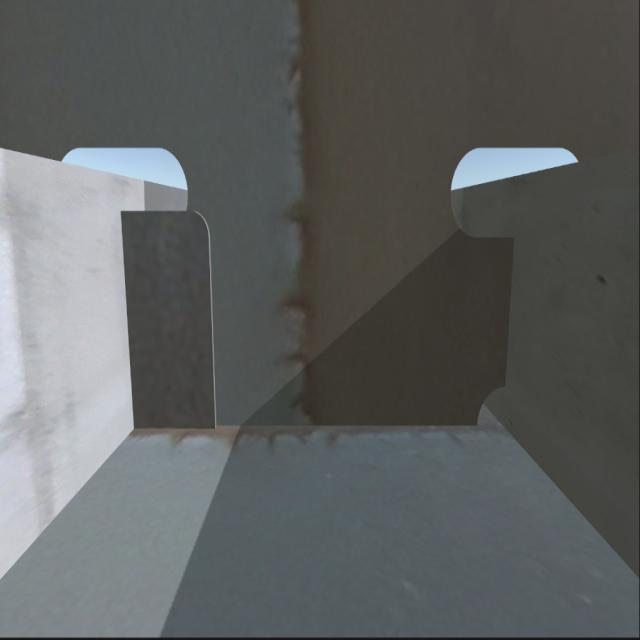fillet_hole: (479, 387, 507, 426)
fillet_yong_jeop_jang: (134, 415, 479, 434)
longi_yong_jeop_jang: (118, 212, 137, 429), (501, 241, 514, 383)
plate_CP05: (122, 206, 214, 426)
